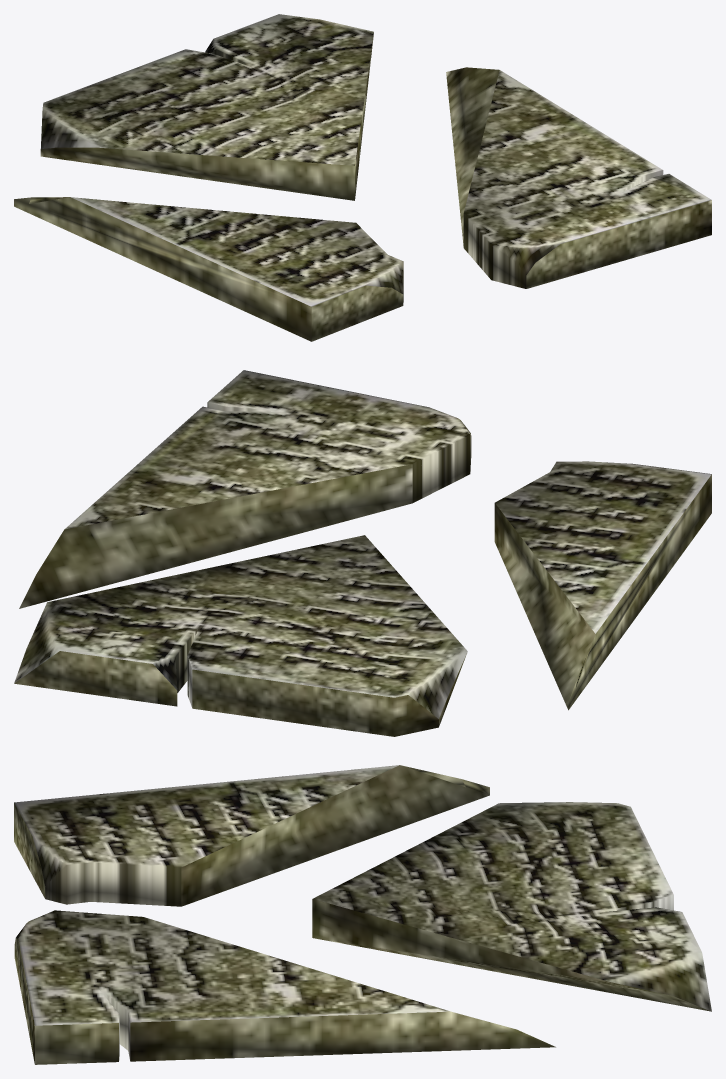
The model's file is GS_MISC_CRACKED_STONEPLATE_02_GALI.glb.
The picture shows the model from 3 angles, top to bottom: view 1: azimuth 30°, elevation 25°; view 2: azimuth 150°, elevation 25°; view 3: azimuth 270°, elevation 25°; orthographic projection. The views are drawn at different scales.
Parts seen in each view (by area): view 1: Mesh; view 2: Mesh; view 3: Mesh.
Part boxes in pixels (<box>): Mesh: <box>14,14,711,341</box>; Mesh: <box>14,370,711,736</box>; Mesh: <box>14,765,711,1064</box>.
Bounding box in the file's own units: 0.673 × 0.0456 × 0.7369.
Materials: 1 (1 with a texture image).
